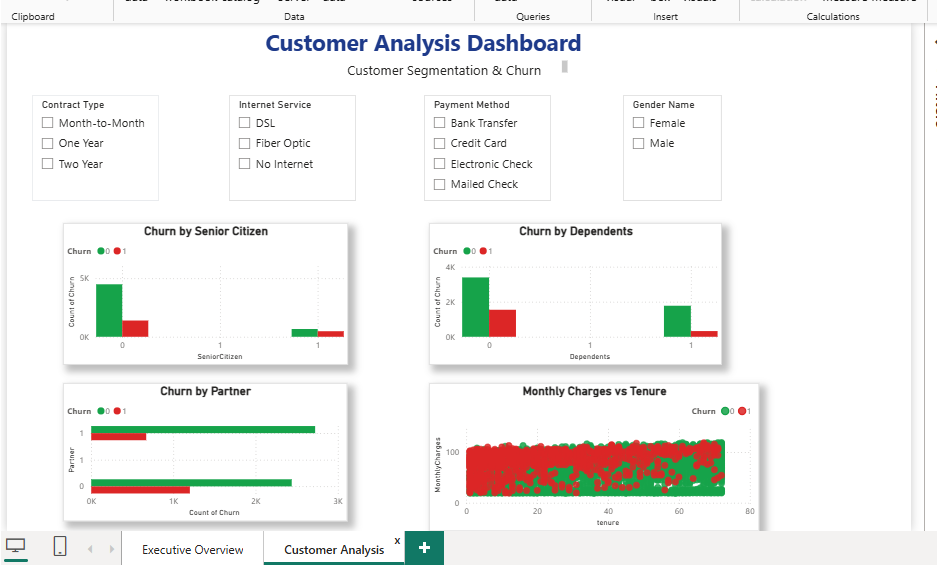

This screenshot's page, from the dashboard's own definition file:
{"tool":"powerbi","page":{"name":"Customer Analysis","canvas":[1280,720],"ordinal":1},"visuals":[{"type":"textbox","box":[10.1,0,1160.9,63.8],"z":0},{"type":"slicer","fields":{"Values":["CustomerChurn.Contract Type"]},"box":[35.4,102,180,150],"z":1000},{"type":"slicer","fields":{"Values":["CustomerChurn.Internet Service"]},"box":[314.6,102,180,150],"z":2000},{"type":"slicer","fields":{"Values":["CustomerChurn.Payment Method"]},"box":[591,102,180,150.2],"z":3000},{"type":"clusteredColumnChart","title":"Churn by Senior Citizen","fields":{"Category":["CustomerChurn.SeniorCitizen"],"Y":["CountNonNull(CustomerChurn.Churn)"],"Series":["CustomerChurn.Churn"]},"box":[79.4,283.5,403.9,201.3],"z":4000},{"type":"clusteredColumnChart","title":"Churn by Dependents","fields":{"Category":["CustomerChurn.Dependents"],"Y":["CountNonNull(CustomerChurn.Churn)"],"Series":["CustomerChurn.Churn"]},"box":[598.1,283.5,415.3,201.3],"z":5000},{"type":"scatterChart","title":"Monthly Charges vs Tenure","fields":{"X":["CustomerChurn.tenure"],"Y":["CustomerChurn.MonthlyCharges"],"Series":["CustomerChurn.Churn"]},"box":[598.1,510.2,467.7,209.8],"z":6000},{"type":"clusteredBarChart","title":"Churn by Partner","fields":{"Category":["CustomerChurn.Partner"],"Y":["CountNonNull(CustomerChurn.Churn)"],"Series":["CustomerChurn.Churn"]},"box":[79.4,510.2,402.5,195.6],"z":7000},{"type":"slicer","fields":{"Values":["CustomerChurn.Gender Name"]},"box":[873.1,102,140.3,150],"z":8000},{"type":"textbox","box":[446.5,48.2,352.9,38.3],"z":9000}]}

Visuals, with their boxes on the page's 1280x720 design canvas (x1, y1, x2, y2). These are canvas units, not pixel positions in the 937x565 screenshot, which may show the page scaled, cropped or inside an application window:
textbox: rect(10, 0, 1171, 64)
slicer - CustomerChurn.Contract Type: rect(35, 102, 215, 252)
slicer - CustomerChurn.Internet Service: rect(315, 102, 495, 252)
slicer - CustomerChurn.Payment Method: rect(591, 102, 771, 252)
"Churn by Senior Citizen" clusteredColumnChart: rect(79, 284, 483, 485)
"Churn by Dependents" clusteredColumnChart: rect(598, 284, 1013, 485)
"Monthly Charges vs Tenure" scatterChart: rect(598, 510, 1066, 720)
"Churn by Partner" clusteredBarChart: rect(79, 510, 482, 706)
slicer - CustomerChurn.Gender Name: rect(873, 102, 1013, 252)
textbox: rect(446, 48, 799, 86)
